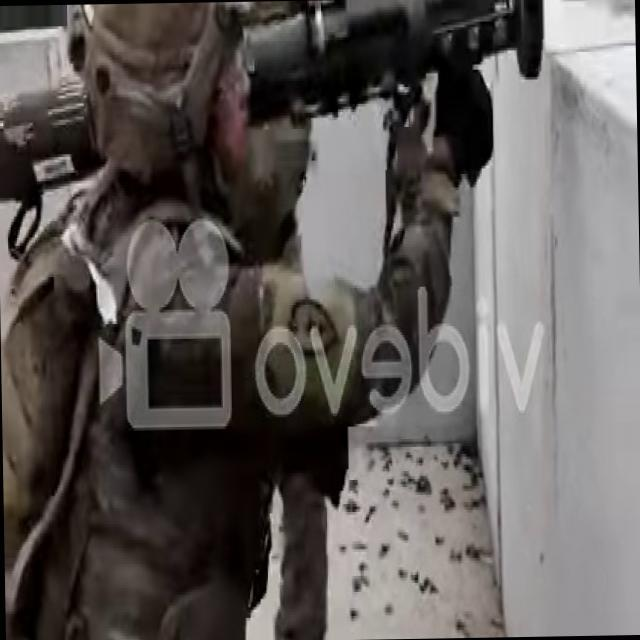rocket: (254, 5, 548, 106)
